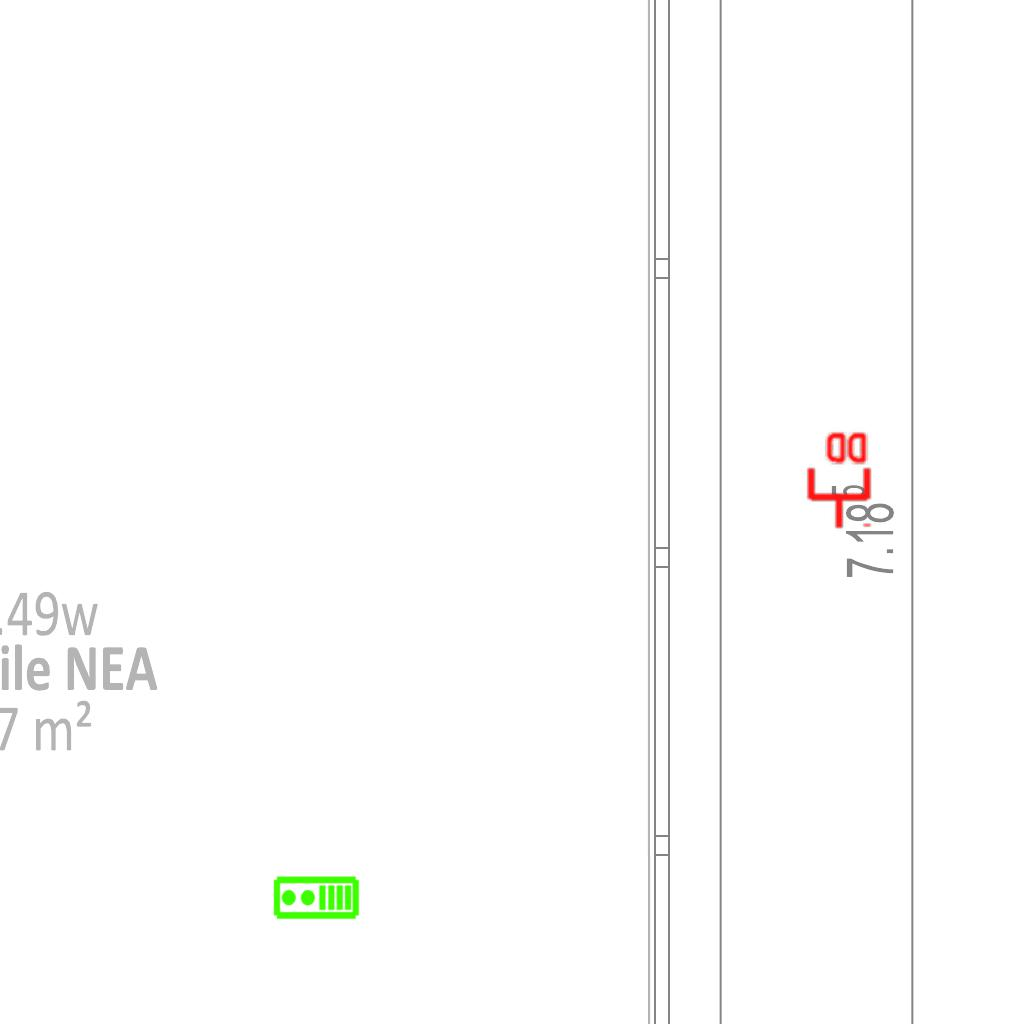Datenanschluss_zweifach: (803, 428, 872, 531)
Gegensprechanlage_mit_Video: (272, 875, 360, 922)
